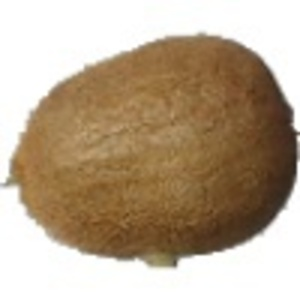kiwi: (4, 32, 300, 272)
